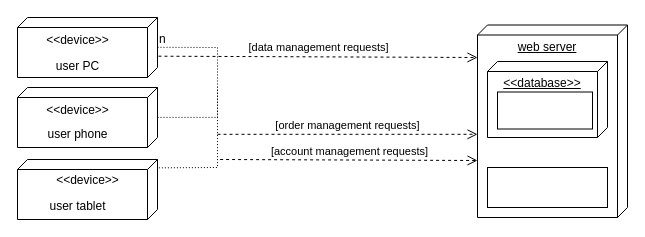
This 645x237 diagram has some shape labels left out. Here are the shapes that lost their labels. From the top down, the centre of each, then its label:
pixel 544 110: <<artifact>> mySQL_server
pixel 547 187: <<artifact>> website_api
